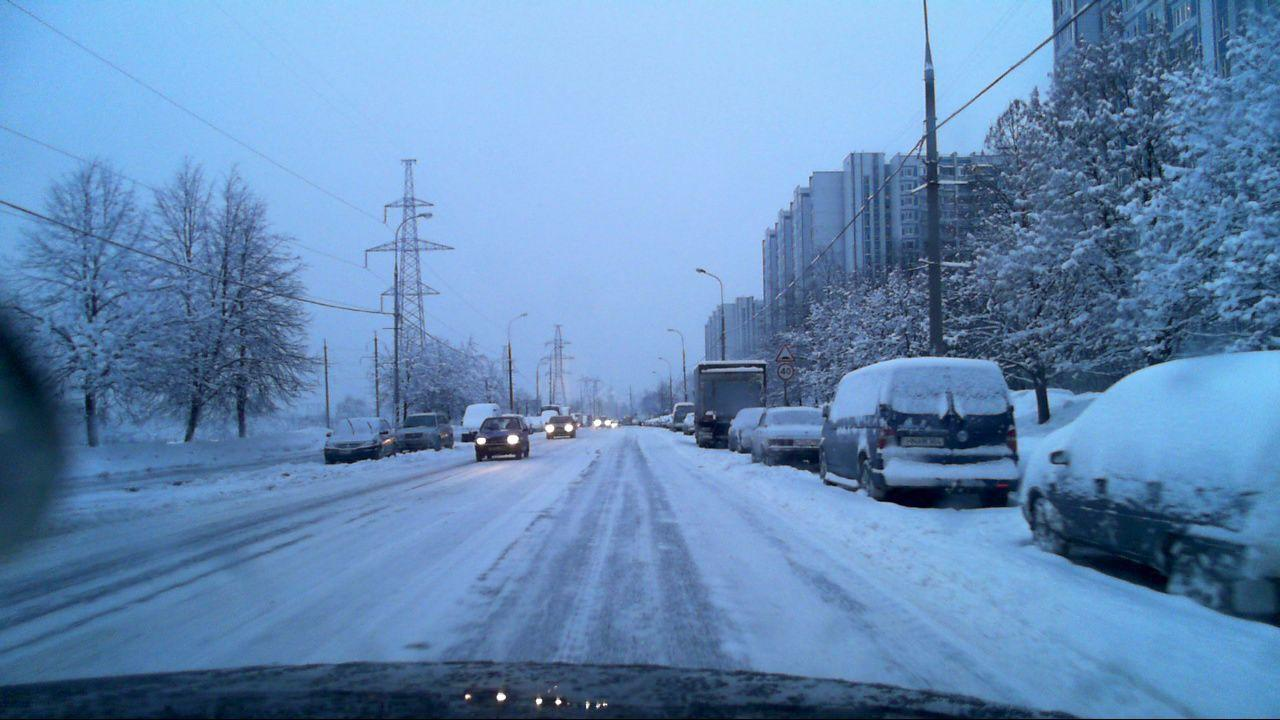road_sign: (772, 341, 798, 362), (777, 363, 793, 380)
